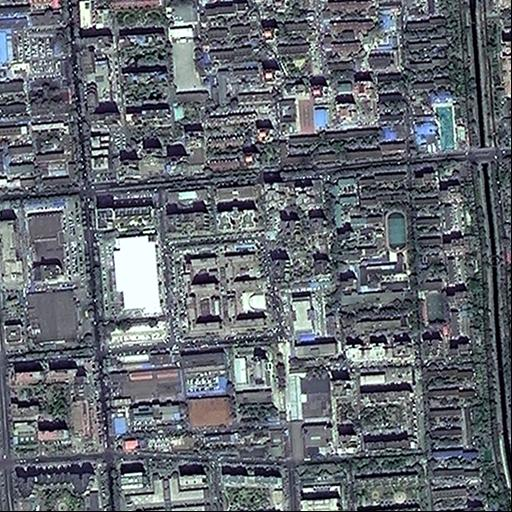school: (354, 207, 412, 290), (275, 78, 321, 139), (417, 276, 449, 335)
